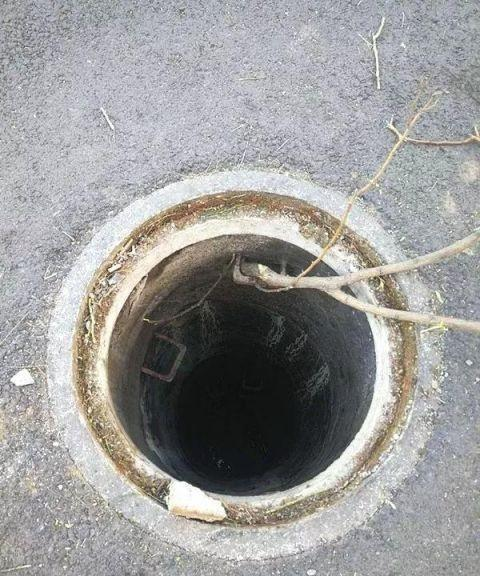wellcover: (51, 187, 435, 536)
